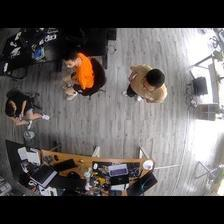normal: (60, 52, 109, 101), (4, 87, 54, 129), (120, 62, 166, 105)
